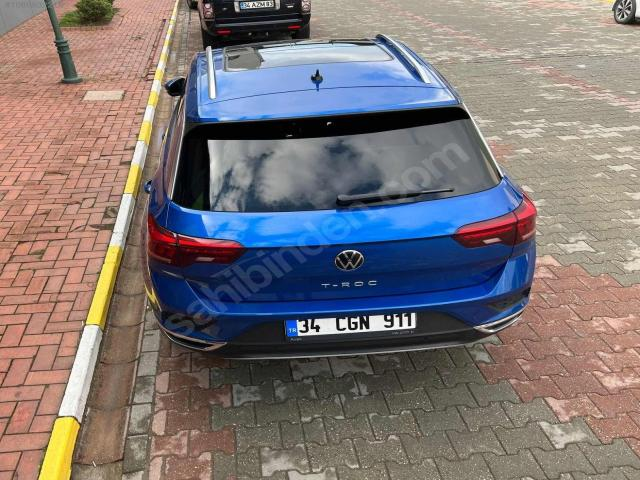plaka: (286, 312, 418, 337), (240, 0, 274, 10)
